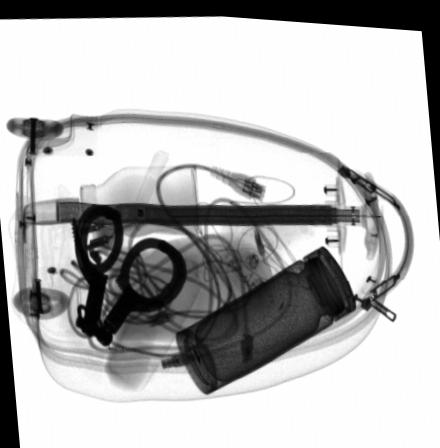HandCuffs: (69, 200, 186, 345)
